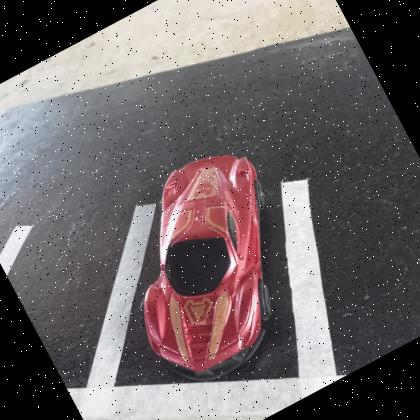Car: (144, 155, 266, 377)
